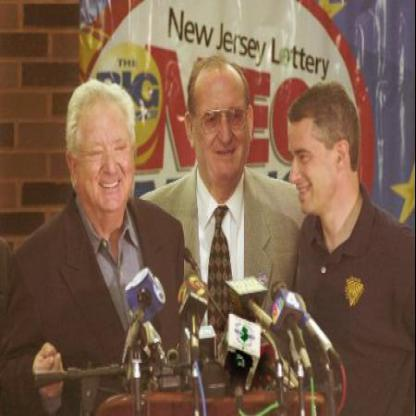face: (75, 88, 136, 218), (194, 60, 253, 184), (285, 97, 338, 216)
